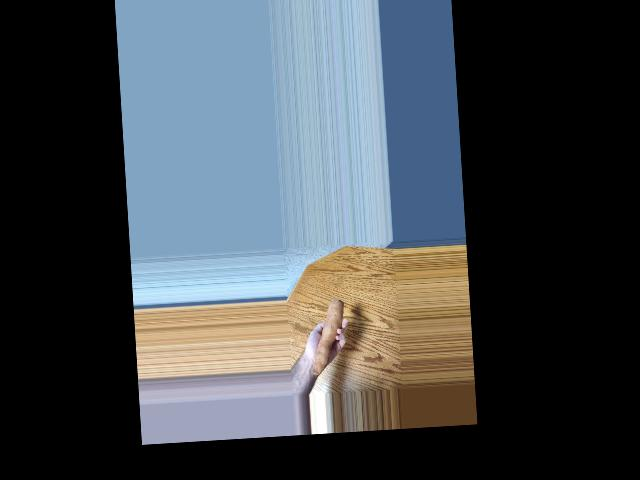sweet_potato: (306, 297, 349, 376)
